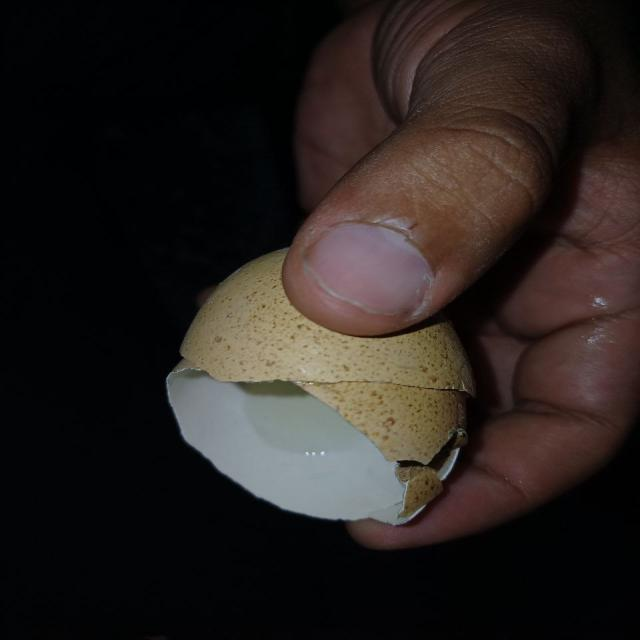organic: (167, 332, 478, 524)
